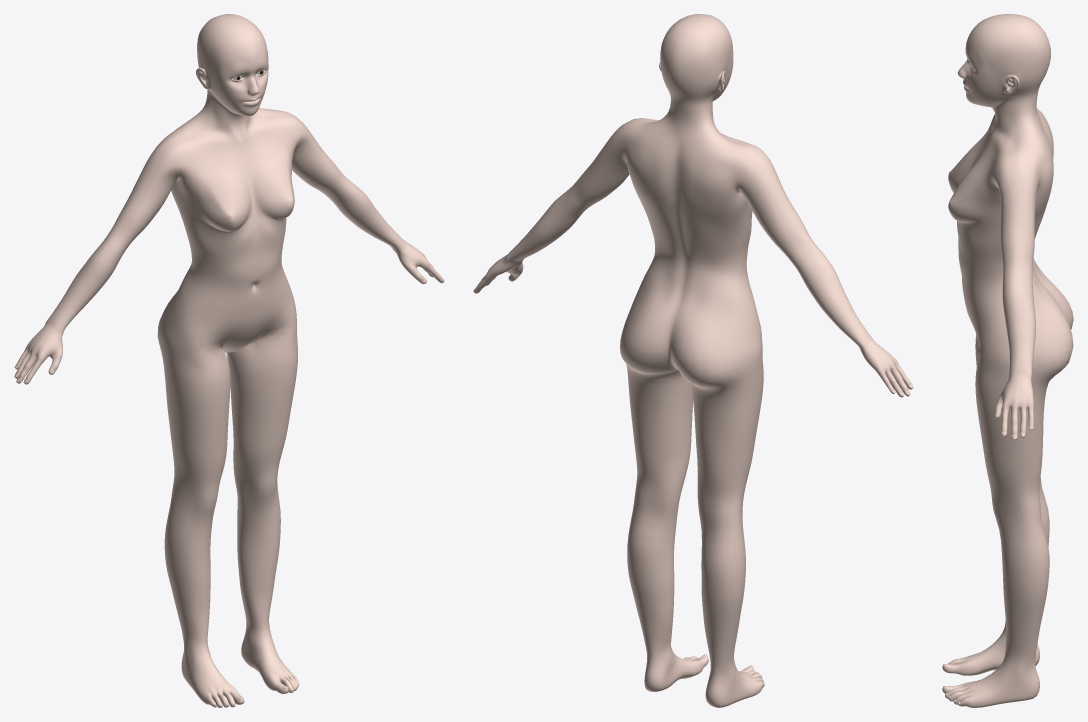
File: fem_.fbx
3 renders of one model, left to right at view 1: azimuth 30°, elevation 25°; view 2: azimuth 150°, elevation 25°; view 3: azimuth 270°, elevation 25°, orthographic. The views are drawn at different scales.
Parts seen in each view (by area): view 1: female_teen; view 2: female_teen; view 3: female_teen.
Part boxes in pixels (box(x1,y1,x2,y2)): female_teen: box(14, 14, 444, 707); female_teen: box(473, 14, 913, 707); female_teen: box(942, 14, 1073, 707).
Size of the model in its own units: 1022 by 1522 by 270.
